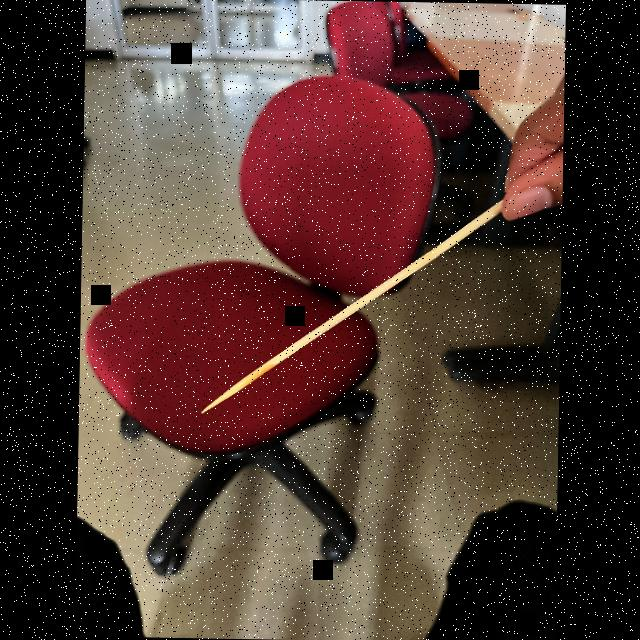stick: (201, 192, 506, 417)
